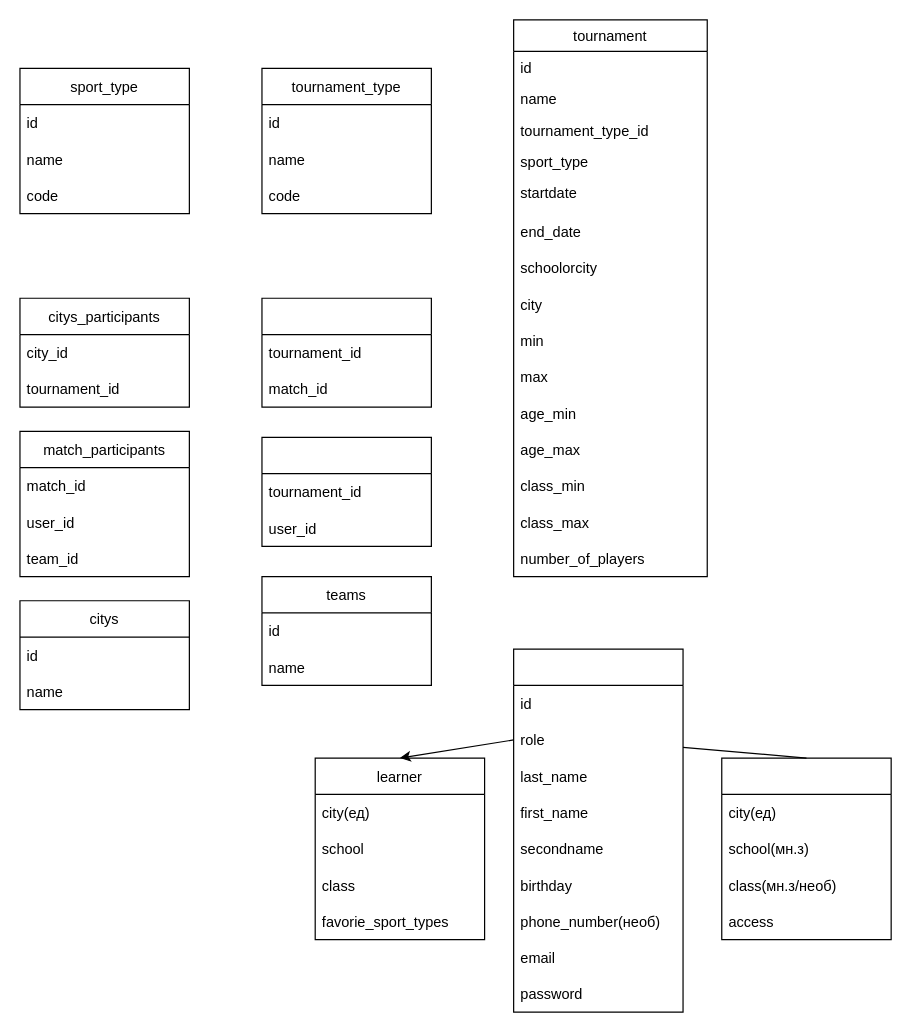
The diagram is 911 pixels wide and 1032 high, and some of its shapes have lost their labels. The box of each missing label's shape, as (x1, y1, x2, y2) in pixels:
teacher: (721, 757, 891, 940)
tournament_matches: (261, 297, 431, 407)
tournament_participants: (261, 436, 431, 546)
user: (512, 648, 683, 1012)
